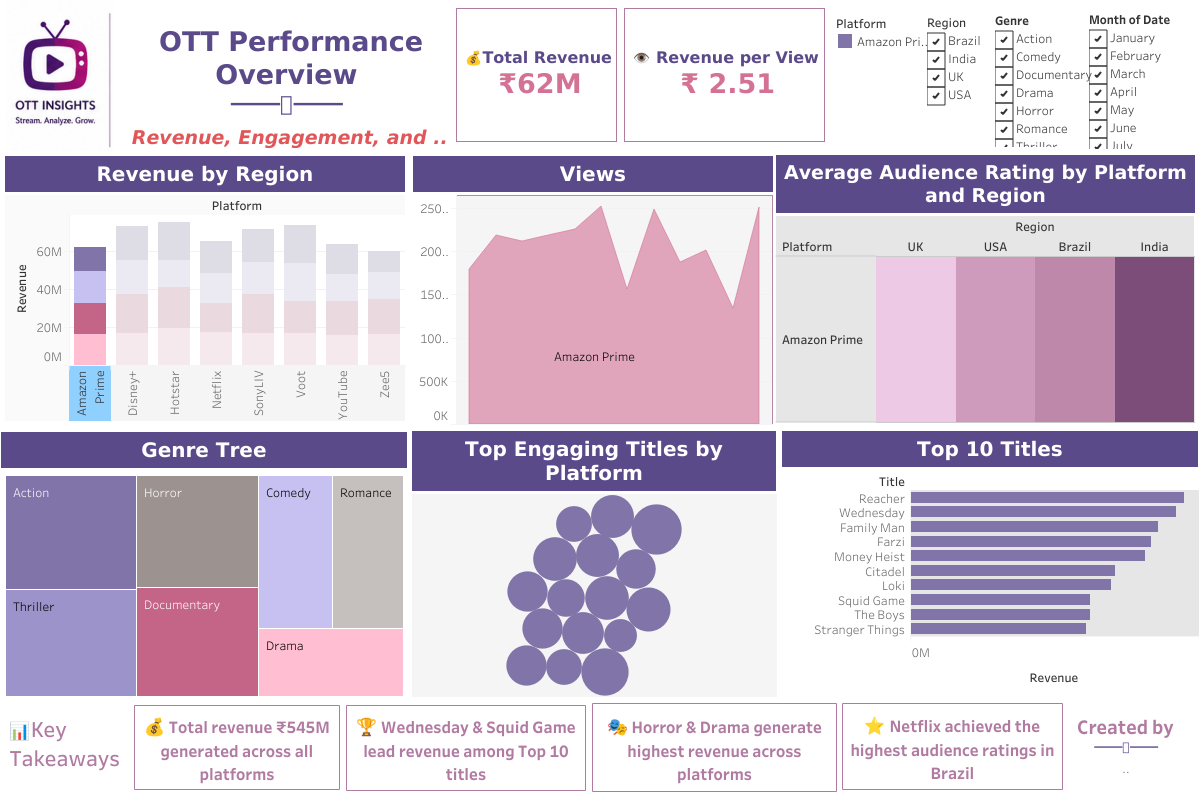

The page's visual inventory and layout, read from the dashboard file:
{"tool":"tableau","page":{"name":"Dashboard 1","canvas":[1000,1000],"units":"permille","ordinal":0},"visuals":[{"type":"text","box":[1.8,6.2,266.4,201.2]},{"type":"filter","title":"Views","param":"[federated.07yf63z0haxw3a1d0bdrx1rfx7md].[mn:Date:ok]","box":[610.7,6.2,76.6,198.8]},{"type":"filter","title":"Revenue by Region","param":"[federated.07yf63z0haxw3a1d0bdrx1rfx7md].[none:Region:nk]","box":[690.4,6.2,55.9,198.8]},{"type":"filter","title":"Revenue by Region","param":"[federated.07yf63z0haxw3a1d0bdrx1rfx7md].[none:Genre:nk]","box":[750.2,6.2,85.1,197.5]},{"type":"worksheet","title":"Total Revenue","mark":"Automatic","box":[271.1,35,167.9,171.2]},{"type":"worksheet","title":"Revenue","mark":"Automatic","box":[441.4,35,166.8,171.2]},{"type":"worksheet","title":"Views","mark":"Automatic","rows":["Views"],"cols":["Date"],"box":[274,210,289.3,350]},{"type":"worksheet","title":"Revenue by Region","mark":"Automatic","rows":["Revenue"],"cols":["Platform"],"box":[0.6,211,272.4,350.8]},{"type":"worksheet","title":"Top 10 Titles","mark":"Automatic","rows":["Title"],"cols":["Revenue"],"box":[566.5,211,270.6,349.6]},{"type":"worksheet","title":"Top Engaging Titles by Platform","mark":"Circle","box":[285.8,563.8,264.6,426.2]},{"type":"worksheet","title":"Average Audience Rating by Platform and Region","mark":"Automatic","rows":["Platform"],"cols":["Region"],"box":[552.7,563.8,285.2,425]}]}

Visuals, with their boxes on the dashboard's canvas, which has no fixed pixel size, in thousandths of its width and height (x1, y1, x2, y2). These are canvas units, not pixel positions in the 1199x799 screenshot, which may show the page scaled, cropped or inside an application window:
text: (2,6,268,207)
"Views" filter: (611,6,687,205)
"Revenue by Region" filter: (690,6,746,205)
"Revenue by Region" filter: (750,6,835,204)
"Total Revenue" worksheet: (271,35,439,206)
"Revenue" worksheet: (441,35,608,206)
"Views" worksheet: (274,210,563,560)
"Revenue by Region" worksheet: (1,211,273,562)
"Top 10 Titles" worksheet: (566,211,837,561)
"Top Engaging Titles by Platform" worksheet (Circle marks): (286,564,550,990)
"Average Audience Rating by Platform and Region" worksheet: (553,564,838,989)
